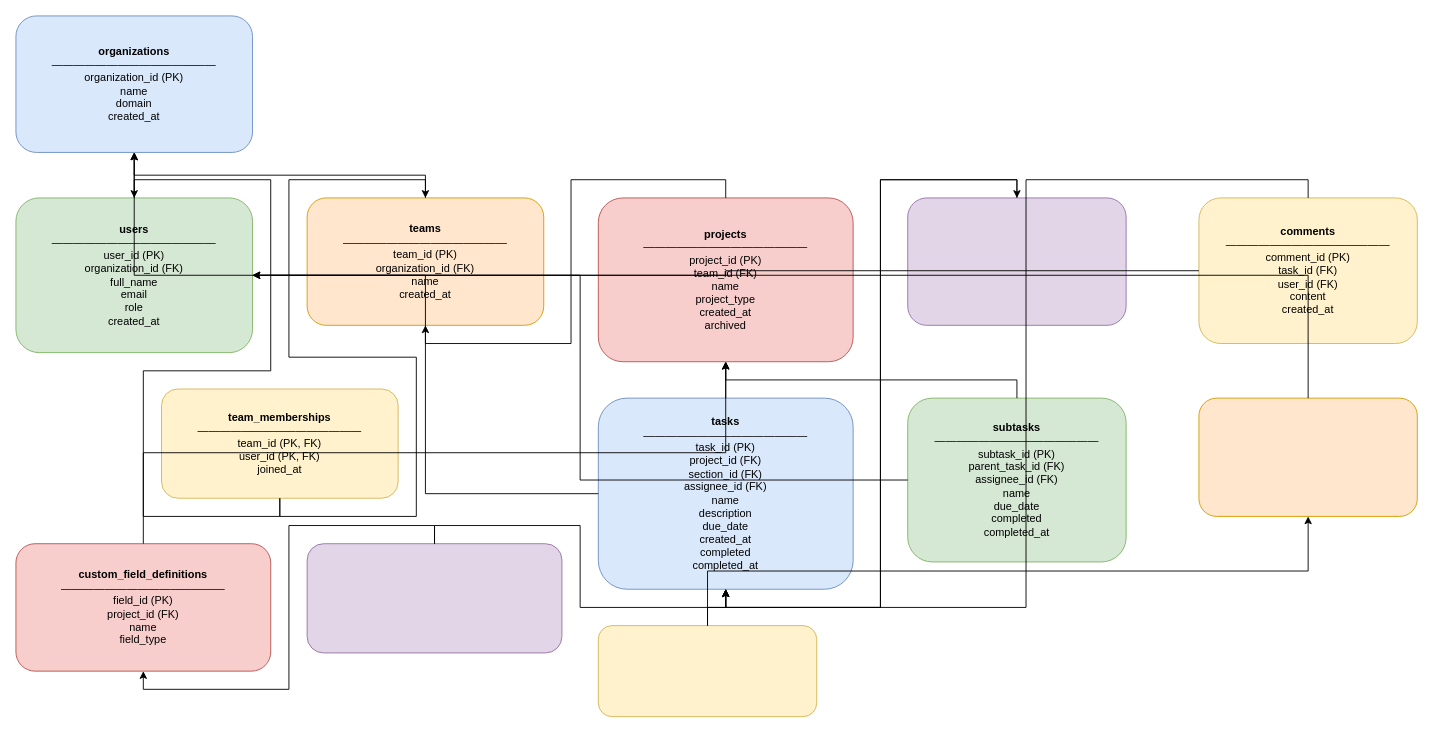
Some shapes in this 1433 by 733 pixel diagram are drawn without their labels. The centre of each missing label's shape, as x and y in pixels:
"custom_field_values ——————————————— task_id (PK, FK) field_id (PK, FK) value" goes at [434,598].
"sections ——————————————— section_id (PK) project_id (FK) name position" goes at [1016,261].
"tags ——————————————— tag_id (PK) organization_id (FK) name" goes at [1307,456].
"task_tags ——————————————— task_id (PK, FK) tag_id (PK, FK)" goes at [707,671].
